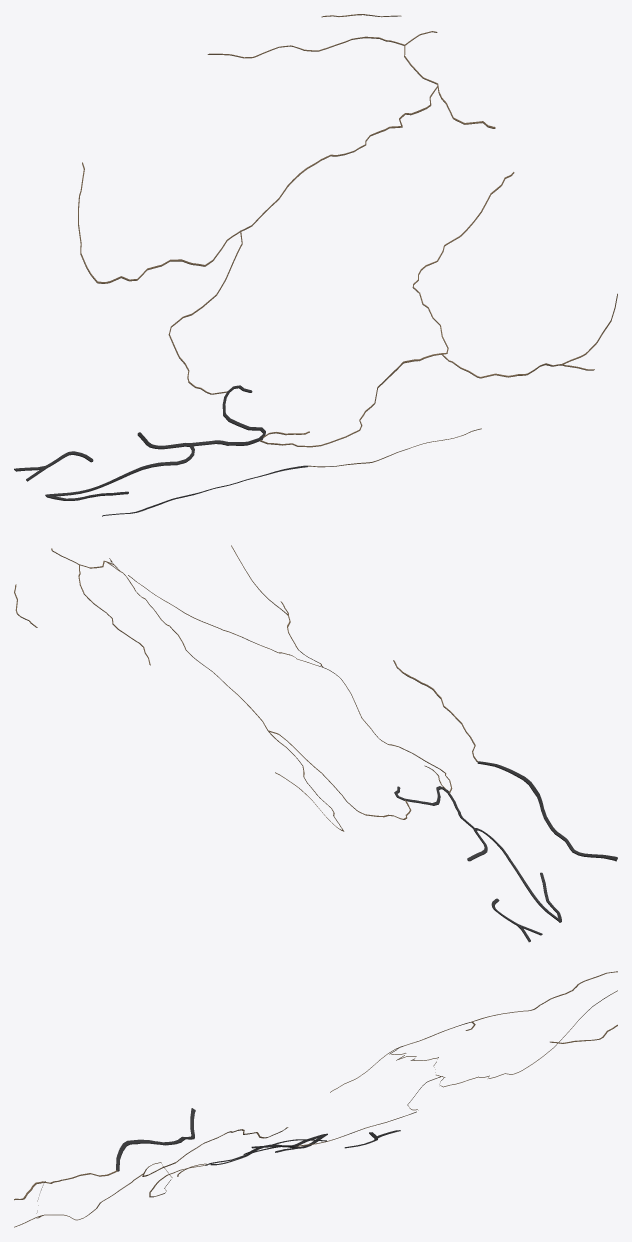
The model's file is 16-54715-29745.efd4daa8.glb.
3 renders of one model, top to bottom at view 1: azimuth 30°, elevation 25°; view 2: azimuth 150°, elevation 25°; view 3: azimuth 270°, elevation 25°, orthographic. The views are drawn at different scales.
Bounding box in the file's own units: 587 × 386 × 583.
